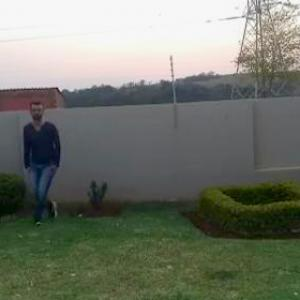follow: (21, 102, 72, 216)
